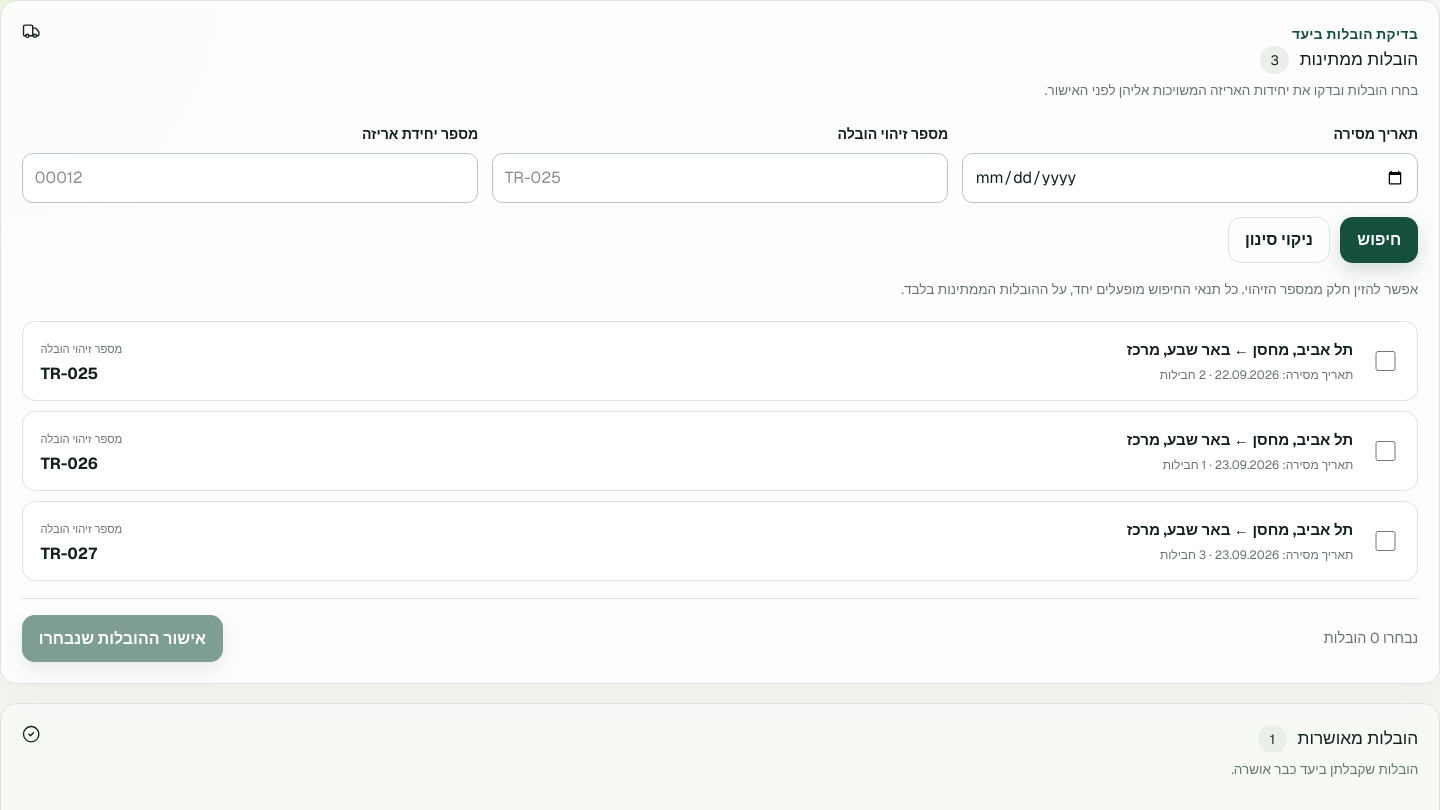
Test: delivery receiving › distinguishes no filter matches from no pending deliveries
This screenshot has width=1440, height=810.
Expected: the checkbox named "בחירת הובלה TR-025" is shown, [1375,351,1396,371]
In the search field labelled "מספר זיהוי הובלה": (720, 178) [492,153,948,203], type "TR-999"
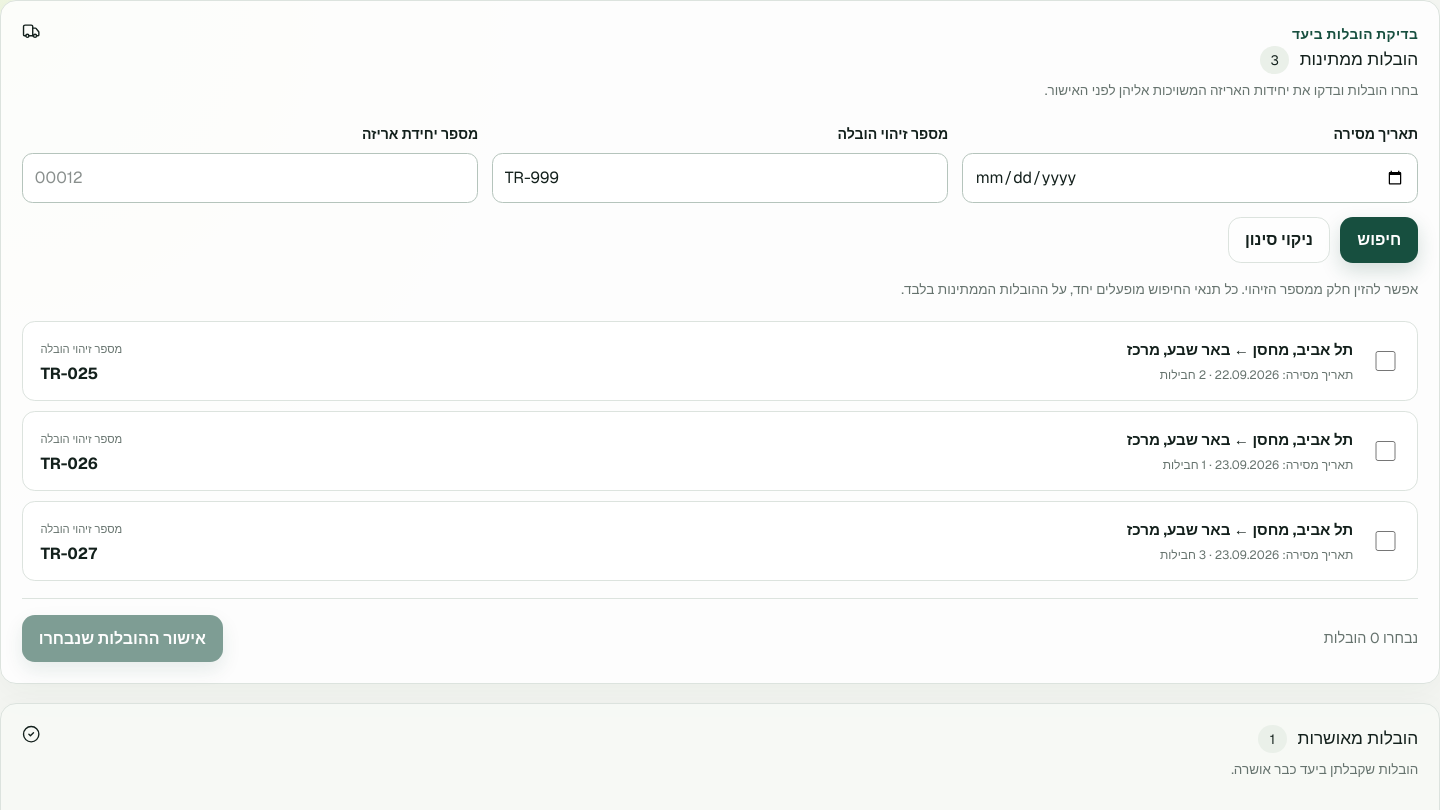
Submit the form "חיפוש", box [22,124,1418,263]
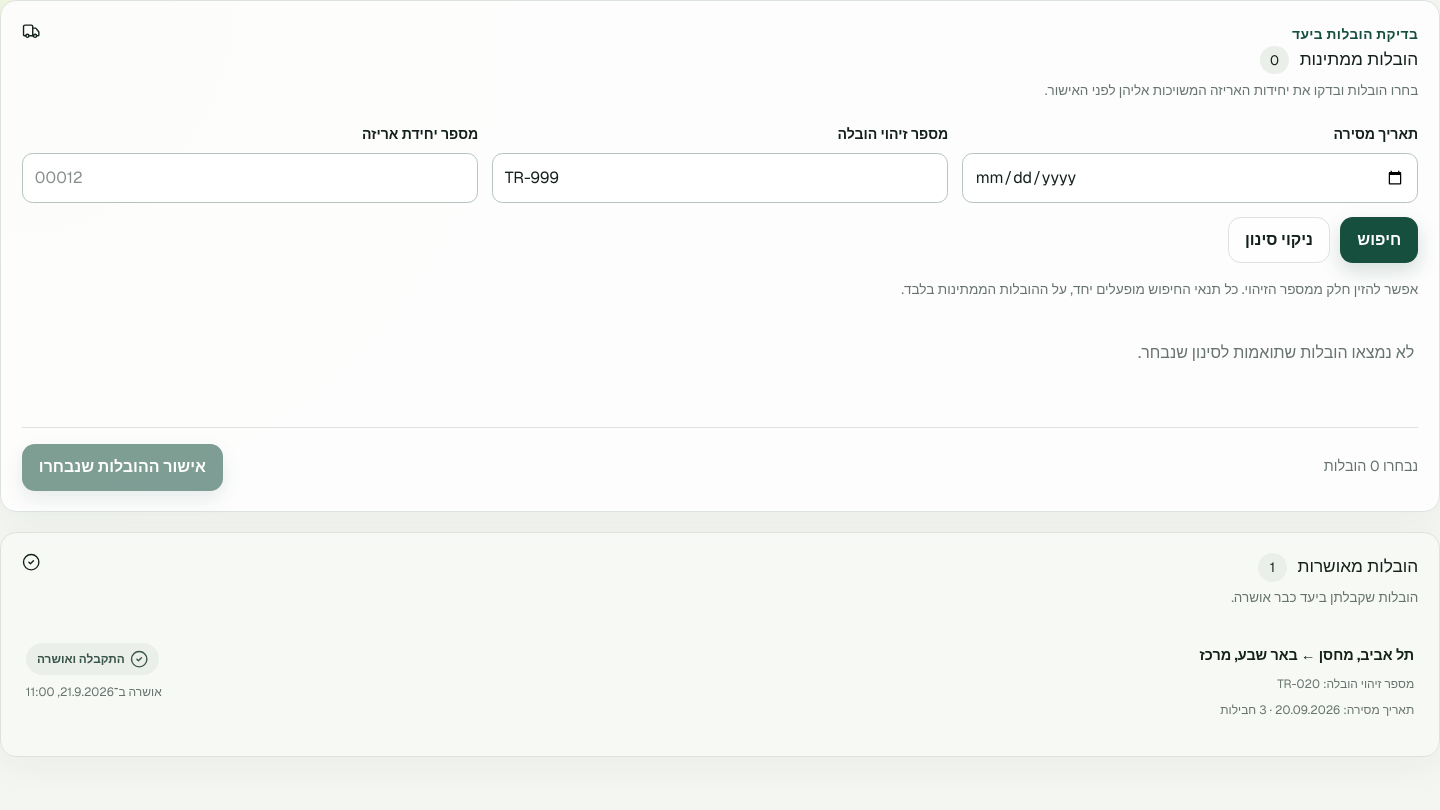
Result: the text "לא נמצאו הובלות שתואמות לסינון שנבחר." is shown at [1138,342,1414,363]
